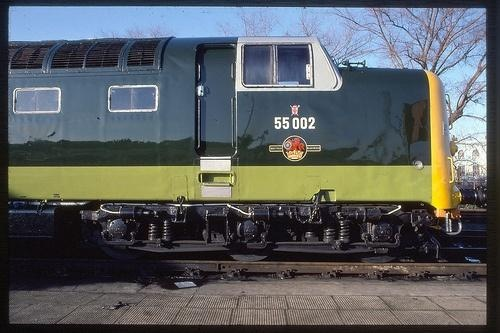train: (1, 34, 467, 267)
